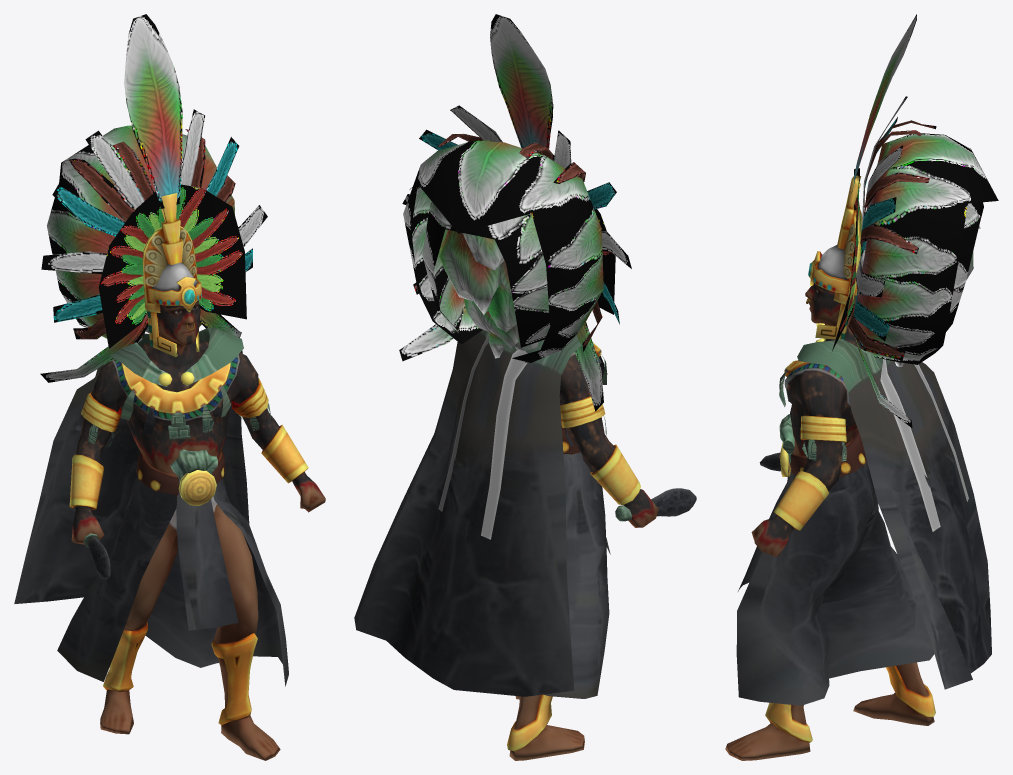
The model's file is 161-warriorpriest.glb.
3 renders of one model, left to right at view 1: azimuth 30°, elevation 25°; view 2: azimuth 150°, elevation 25°; view 3: azimuth 270°, elevation 25°, orthographic. The views are drawn at different scales.
Size of the model in its own units: 1.09 by 3.03 by 1.05.
Materials: 3 (3 with a texture image).
